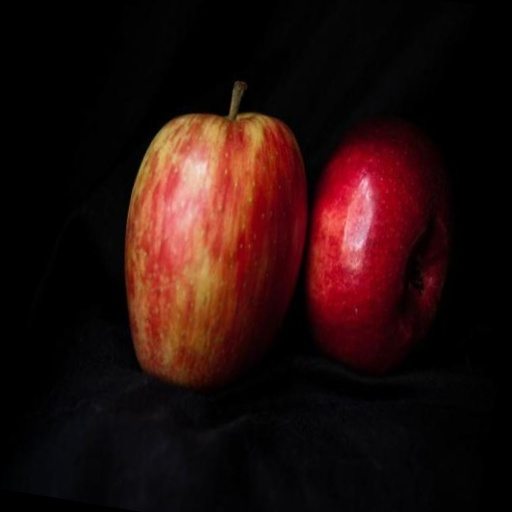fruit: (125, 83, 307, 389), (305, 118, 452, 374)
